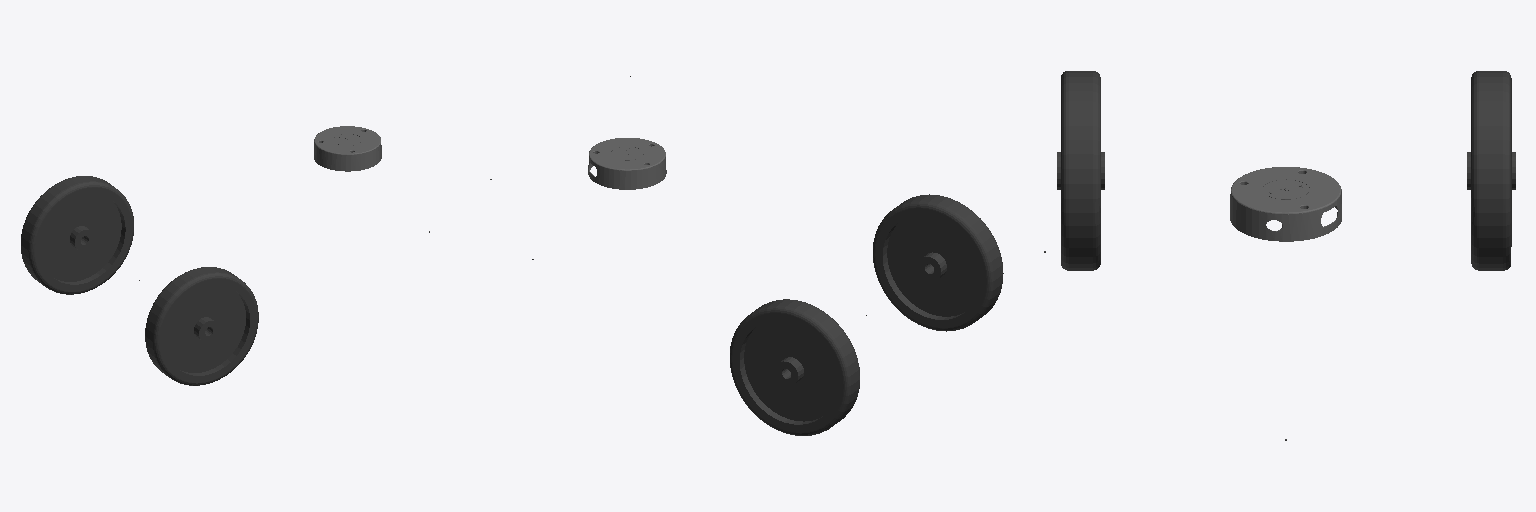
URDF robot description (pegasus_mini):
<?xml version="1.0" encoding="utf-8"?>
<robot
  name="pegasus_mini">
  <link
    name="base_link">
    <inertial>
      <origin
        xyz="0.05 0.00100384888904426 0.0291653156426118"
        rpy="0 0 0" />
      <mass
        value="3.10942485851605" />
      <inertia
        ixx="0.009967506563368"
        ixy="-1.75362440797118E-07"
        ixz="3.30883914944428E-06"
        iyy="0.0193424468245618"
        iyz="-4.83041311800311E-07"
        izz="0.0266448037820947" />
    </inertial>
    <visual>
      <origin
        xyz="0 0 0"
        rpy="0 0 0" />
      <geometry>
        <mesh
          filename="package://pegasus_base/meshes/base_link.dae" />
      </geometry>
      <material
        name="">
        <color
          rgba="0.792156862745098 0.819607843137255 0.933333333333333 1" />
      </material>
    </visual>
    <collision>
      <origin
        xyz="0.08 0 0.03125"
        rpy="1.5707 0 0" />
      <geometry>
              <box size="0.45 0.12 0.34"/>

      </geometry>
    </collision>
    </link>

  <link
      name="frontcastor">
      <inertial>
        <origin
          xyz="-5.72225387474662E-15 5.64825963778048E-15 -1.06852380645045E-16"
          rpy="0 0 0" />
        <mass
          value="0.232013920708616" />
        <inertia
          ixx="0.000277320036972709"
          ixy="-1.20216774398711E-17"
          ixz="-1.01007354824876E-32"
          iyy="0.000538249657591165"
          iyz="1.19367335965887E-19"
          izz="0.000277320036972708" />
      </inertial>
      <visual>
        <origin
          xyz="0.15 0 0"
          rpy="1.5707 0 0" />
        <geometry>
          <box size="0.001 0.001 0.001"/>
        </geometry>
        <surface>
          <friction>
            <ode> 123
              <mu>0.0</mu>
              <mu2>0.0</mu2>
            </ode>
          </friction>
        </surface>
        <material
          name="">
          <color
            rgba="0.298039215686275 0.298039215686275 0.298039215686275 1" />
        </material>
      </visual>
      <collision>
        <origin
          xyz="0 0 0"
          rpy="1.5707 0 0" />
        <geometry>
          <cylinder length="0.02" radius="0.0375"/>

        </geometry>
              <surface>
          <friction>
            <ode>
              <mu>0</mu>
              <mu2>0</mu2>
            </ode>
          </friction>
          <contact>
            <ode>
              <min_depth>0</min_depth>
            </ode>
          </contact>
        </surface>
      </collision>
      </link>
     
  <joint
    name="frontcastor_joint"
    type="continuous">
    <origin
      xyz="0.194 0 -0.025"
      rpy="0 0 0" />
    <parent
      link="base_link" />
    <child
      link="frontcastor" />
    <axis
      xyz="0 1 0" />
    </joint>

  <link
      name="camera">
      <inertial>
        <origin
          xyz="-5.72225387474662E-15 5.64825963778048E-15 -1.06852380645045E-16"
          rpy="0 0 0" />
        <mass
          value="0.232013920708616" />
        <inertia
          ixx="0.000277320036972709"
          ixy="-1.20216774398711E-17"
          ixz="-1.01007354824876E-32"
          iyy="0.000538249657591165"
          iyz="1.19367335965887E-19"
          izz="0.000277320036972708" />
      </inertial>
      <visual>
        <origin
          xyz="0.15 0 0"
          rpy="1.5707 0 0" />
        <geometry>
          <box size="0.001 0.001 0.001"/>
        </geometry>
        <surface>
          <friction>
            <ode> 123
              <mu>0.0</mu>
              <mu2>0.0</mu2>
            </ode>
          </friction>
        </surface>
        <material
          name="">
          <color
            rgba="0.298039215686275 0.298039215686275 0.298039215686275 1" />
        </material>
      </visual>
      <collision>
        <origin
          xyz="0 0 0"
          rpy="1.5707 0 0" />
        <geometry>
          <cylinder length="0.02" radius="0.0375"/>

        </geometry>
              <surface>
          <friction>
            <ode>
              <mu>0</mu>
              <mu2>0</mu2>
            </ode>
          </friction>
          <contact>
            <ode>
              <min_depth>0</min_depth>
            </ode>
          </contact>
        </surface>
      </collision>
      </link>
     
  <joint
    name="camera_joint"
    type="fixed">
    <origin
      xyz="0.33 0 0.098"
      rpy="-1.57079 0 -1.57079" />
    <parent
      link="base_link" />
    <child
      link="camera" />
    <axis
      xyz="0 1 0" />
    </joint>


  <link
      name="imu_link">
      <inertial>
        <origin
          xyz="0 0 0"
          rpy="0 0 0" />
        <mass
          value="0.0" />
        <inertia
          ixx="0.000"
          ixy="0.000"
          ixz="0.000"
          iyy="0.000"
          iyz="0.000"
          izz="0.000" />
      </inertial>
      <visual>
        <origin
          xyz="0 0 0"
          rpy="0 0 0" />
        <geometry>
          <box size="0.001 0.001 0.001"/>
        </geometry>
        <surface>
          <friction>
            <ode> 123
              <mu>0.0</mu>
              <mu2>0.0</mu2>
            </ode>
          </friction>
        </surface>
        <material
          name="">
          <color
            rgba="0.298039215686275 0.298039215686275 0.298039215686275 1" />
        </material>
      </visual>
      <collision>
        <origin
          xyz="0 0 0"
          rpy="0 0 0" />
        <geometry>
          <box size="0.001 0.001 0.001"/>

        </geometry>
              <surface>
          <friction>
            <ode>
              <mu>0</mu>
              <mu2>0</mu2>
            </ode>
          </friction>
          <contact>
            <ode>
              <min_depth>0</min_depth>
            </ode>
          </contact>
        </surface>
      </collision>
      </link>
     
  <joint
    name="imu_joint"
    type="fixed">
    <origin
      xyz="0 0 00"
      rpy="0 0 0" />
    <parent
      link="base_link" />
    <child
      link="imu_link" />
    <axis
      xyz="0 1 0" />
    </joint>



  <link
    name="leftwheel_link">
    <inertial>
      <origin
        xyz="-5.72225387474662E-15 5.64825963778048E-15 -1.06852380645045E-16"
        rpy="0 0 0" />
      <mass
        value="0.232013920708616" />
      <inertia
        ixx="0.000277320036972709"
        ixy="-1.20216774398711E-17"
        ixz="-1.01007354824876E-32"
        iyy="0.000538249657591165"
        iyz="1.19367335965887E-19"
        izz="0.000277320036972708" />
    </inertial>
    <visual>
      <origin
        xyz="0 0 0"
        rpy="1.5707 0 0" />
      <geometry>
        <mesh
          filename="package://pegasus_base/meshes/leftwheel_link.dae" />
      </geometry>
      <material
        name="">
        <color
          rgba="0.298039215686275 0.298039215686275 0.298039215686275 1" />
      </material>
    </visual>
    <collision>
      <origin
        xyz="0 0 0"
        rpy="1.5707 0 0" />
      <geometry>
        <cylinder length="0.02" radius="0.0625"/>

      </geometry>
    </collision>
    </link>
     
  <joint
    name="leftwheel_joint"
    type="continuous">
    <origin
      xyz="0 0.1279 0"
      rpy="0 0 0" />
    <parent
      link="base_link" />
    <child
      link="leftwheel_link" />
    <axis
      xyz="0 1 0" />
    </joint>
     
  <link
    name="rightwheel_link">
    <inertial>
      <origin
        xyz="-2.29870205968863E-18 5.20417042793042E-15 1.60744195424908E-16"
        rpy="0 0 0" />
      <mass
        value="0.232013920708616" />
      <inertia
        ixx="0.000277320036972709"
        ixy="-3.80177089528946E-20"
        ixz="5.2352935655391E-36"
        iyy="0.000538249657591166"
        iyz="4.45769783655849E-20"
        izz="0.000277320036972709" />
    </inertial>
    <visual>
      <origin
        xyz="0 0 0"
        rpy="1.5707 0 0" />
      <geometry>
        <mesh
          filename="package://pegasus_base/meshes/rightwheel_link.dae" />
      </geometry>
      <material
        name="">
        <color
          rgba="0.298039215686275 0.298039215686275 0.298039215686275 1" />
      </material>
    </visual>
    <collision>
      <origin
        xyz="0 0 0"
        rpy="1.5707 0 0" />
      <geometry>
            <cylinder length="0.02" radius="0.0625"/>
      </geometry>
    </collision>
    </link>
     
  <joint
    name="rightwheel_joint"
    type="continuous">
    <origin
      xyz="0 -0.1279 0"
      rpy="0 0 0" />
    <parent
      link="base_link" />
    <child
      link="rightwheel_link" />
    <axis
      xyz="0 1 0" />
    </joint>
     
  <link
    name="laser">
    <inertial>
      <origin
        xyz="0.166389887141163 0.121618364229734 0.0967069926939433"
        rpy="0 0 0" />
      <mass
        value="0.00676512405731958" />
      <inertia
        ixx="3.01336664603449E-06"
        ixy="-2.44109847691184E-08"
        ixz="-2.10743854970194E-08"
        iyy="3.11861951022779E-06"
        iyz="-1.45111080099309E-08"
        izz="5.59775679030702E-06" />
    </inertial>
    <visual>
      <origin
        xyz="0 0 0.00402"
        rpy="-1.5707 0 -1.149" />
      <geometry>
        <mesh
          filename="package://pegasus_base/meshes/lidar.dae" />
      </geometry>
      <material
        name="">
        <color
          rgba="0.43921568627451 0.43921568627451 0.43921568627451 1" />
      </material>
    </visual>
    <collision>
      <origin
        xyz="0 0 0"
        rpy="0 0 0" />
      <geometry>
         <cylinder length="0.025" radius="0.035"/>

      </geometry>
    </collision>
    </link>
     
  <joint
    name="laser_joint"
    type="fixed">
    <origin
      xyz="0.24679 0 0.098"
      rpy="0 0 3.14159" /> <!-- Rotate Laser Frame about 180 about z to match RPLidar defualt laser frame -->
    <parent
      link="base_link" />
    <child
      link="laser" />
    <axis
      xyz="0 0 0" />
    </joint>


  <gazebo reference="laser">
<sensor type="gpu_ray" name="head_hokuyo_sensor">
  <pose>0 0 0 0 0 0</pose>
  <visualize>true</visualize>
  <update_rate>20</update_rate>
  <ray>
    <scan>
      <horizontal>
        <samples>720</samples>
        <resolution>1</resolution>
        <min_angle>-3.1467</min_angle>
        <max_angle>3.1467</max_angle>
      </horizontal>
    </scan>
    <range>
      <min>0.10</min>
      <max>12.0</max>
      <resolution>0.01</resolution>
    </range>
    <noise>
      <type>gaussian</type>
      <mean>0.0</mean>
      <stddev>0.01</stddev>
    </noise>
  </ray>
  <plugin name="gazebo_ros_head_hokuyo_controller" filename="libgazebo_ros_gpu_laser.so">
    <topicName>/scan</topicName>
    <frameName>laser</frameName>
  </plugin>
</sensor>
  </gazebo>
  
     
  <gazebo>
    <plugin filename="libgazebo_ros_diff_drive.so" name="differential_drive_controller_front">
      <rosDebugLevel>Debug</rosDebugLevel>
      <publishWheelTF>True</publishWheelTF>
      <publishTf>1</publishTf>
      <publishWheelJointState>true</publishWheelJointState>
      <alwaysOn>true</alwaysOn>
      <updateRate>100.0</updateRate>
      <leftJoint>leftwheel_joint</leftJoint>
      <rightJoint>rightwheel_joint</rightJoint>
      <wheelSeparation>0.390</wheelSeparation>
      <wheelDiameter>0.125</wheelDiameter>
      <broadcastTF>1</broadcastTF>
      <wheelTorque>30</wheelTorque>
      <wheelAcceleration>1.8</wheelAcceleration>
      <commandTopic>cmd_vel</commandTopic>
      <odometryFrame>odom</odometryFrame>
      <odometryTopic>odom</odometryTopic>
      <robotBaseFrame>base_link</robotBaseFrame>
    </plugin>
  </gazebo>
</robot>

--- What the picture shows (computed from the rendered views, not written in the file) ---
The picture shows the robot from 3 angles, left to right: view 1: azimuth 30°, elevation 25°; view 2: azimuth 150°, elevation 25°; view 3: azimuth 270°, elevation 25°; orthographic projection.
Model pegasus_mini with 7 links and 6 joints (3 continuous, 3 fixed), rooted at base_link, posed all joints at 0.
Links seen in each view (by area): view 1: rightwheel_link, leftwheel_link, laser; view 2: leftwheel_link, rightwheel_link, laser; view 3: leftwheel_link, rightwheel_link, laser.
Boxes of the visible links, x1,y1,x2,y2 form: rightwheel_link: [145, 267, 258, 385]; leftwheel_link: [21, 176, 133, 294]; laser: [314, 126, 381, 171]; leftwheel_link: [730, 299, 859, 435]; rightwheel_link: [873, 194, 1003, 331]; laser: [588, 138, 666, 189]; leftwheel_link: [1467, 71, 1515, 270]; rightwheel_link: [1057, 71, 1104, 270]; laser: [1230, 167, 1341, 241].
Size in the robot's own frame: 0.407 by 0.2934 by 0.1643 metres.
3 mesh visuals loaded from 4 distinct referenced files (3 Collada DAE); not drawn: 1 (reference not matched to a file when rendering).